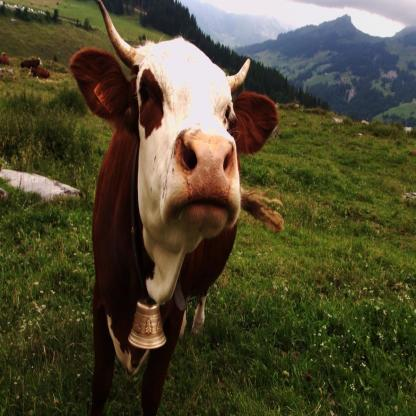cow: (70, 39, 279, 416), (29, 68, 50, 78), (20, 58, 43, 67)
